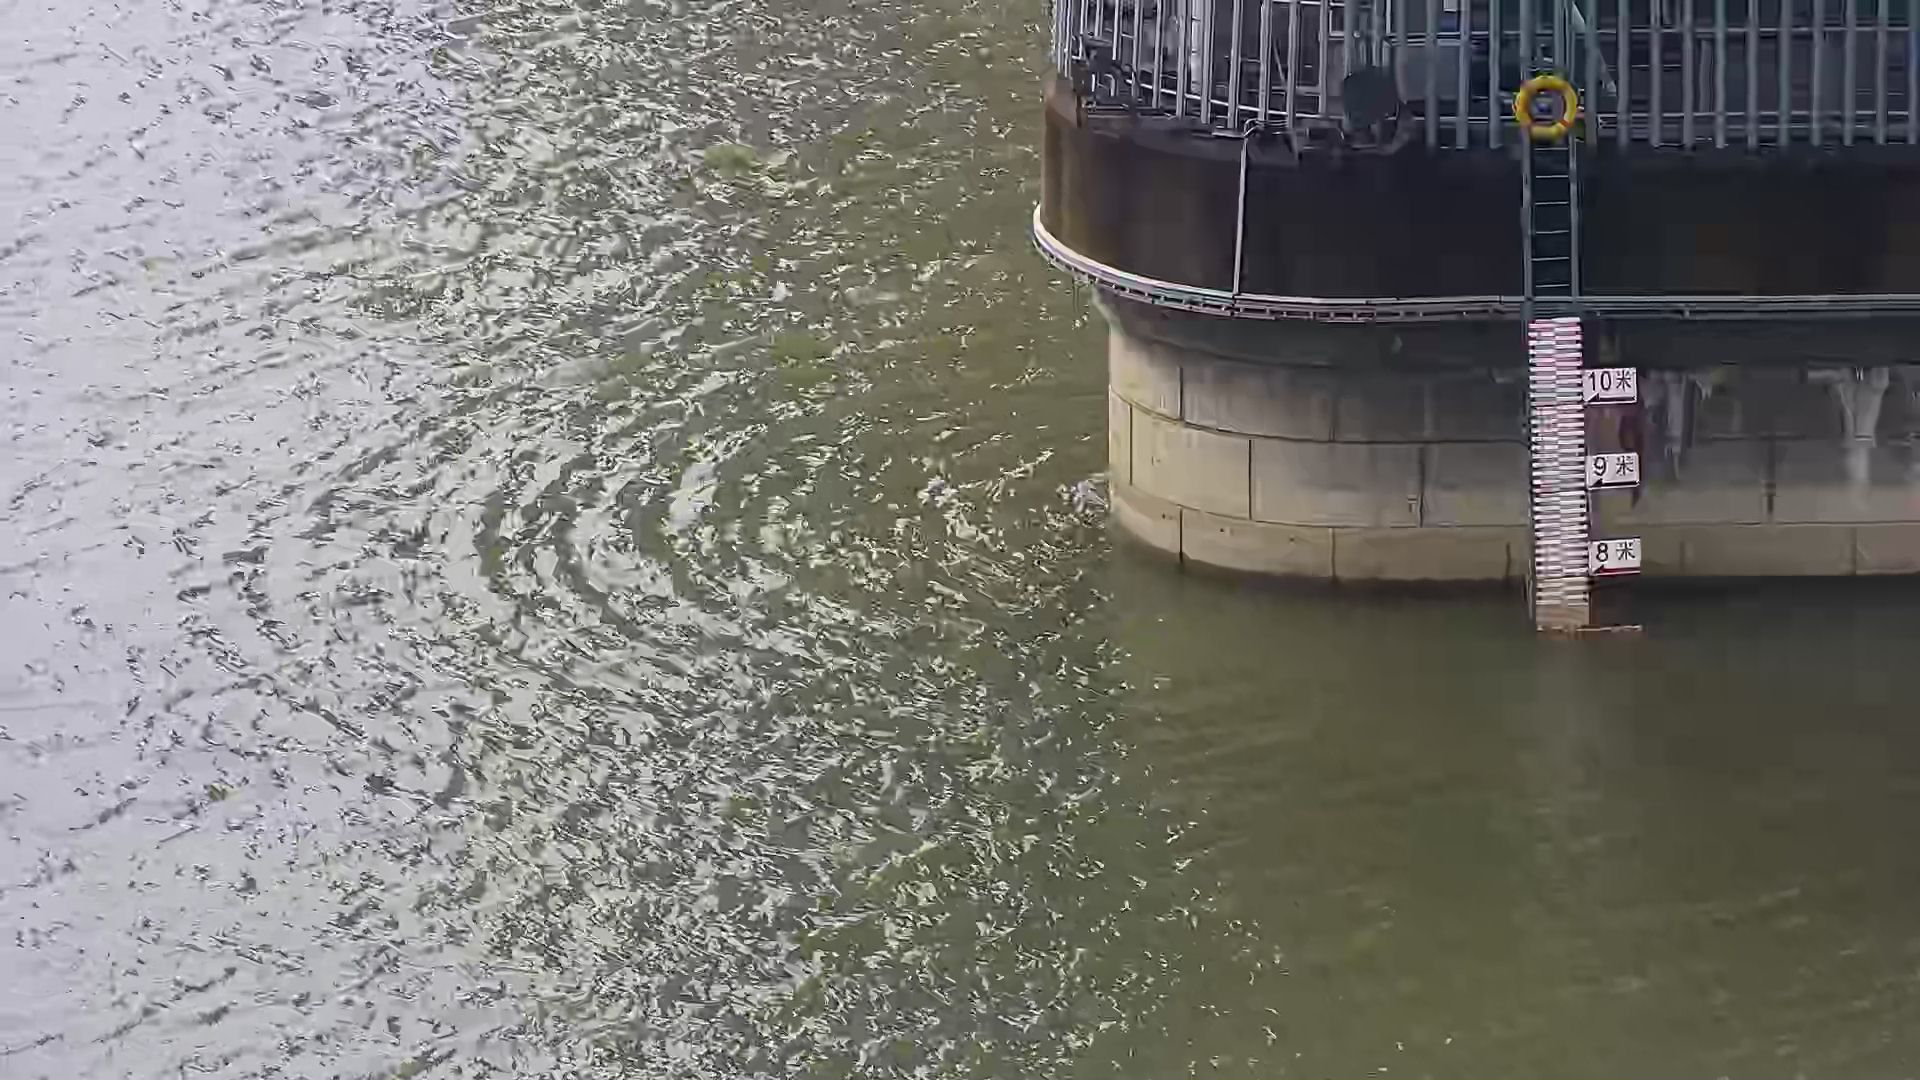bridge: (1051, 1, 1920, 636)
